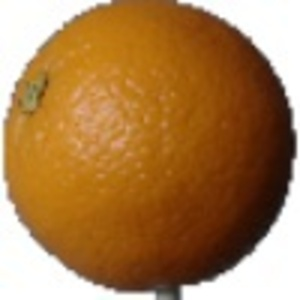laranja: (6, 3, 294, 297)
